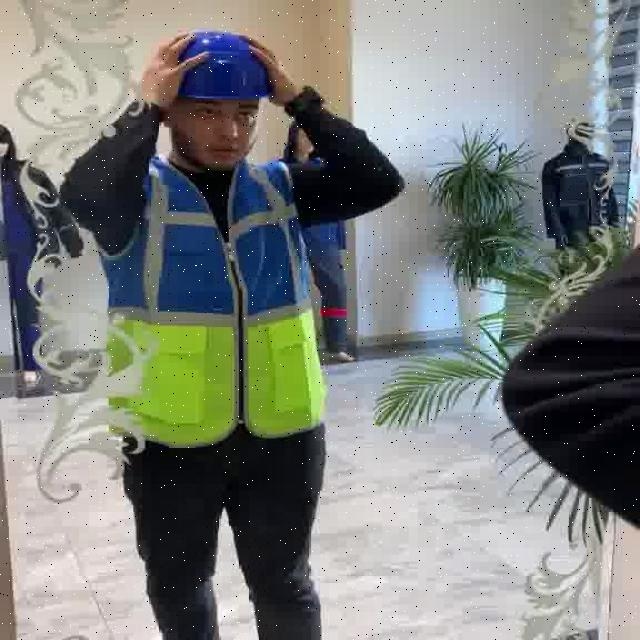Person: (41, 9, 407, 640)
Vest: (108, 135, 331, 448)
